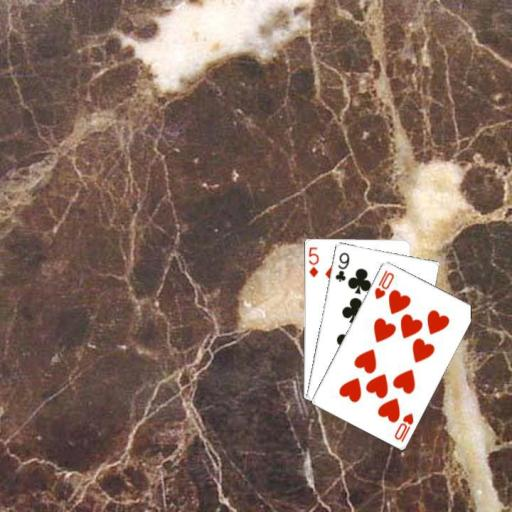10H: (372, 267, 396, 301), (391, 410, 415, 443)
5D: (305, 244, 320, 278)
9C: (332, 249, 351, 283)
